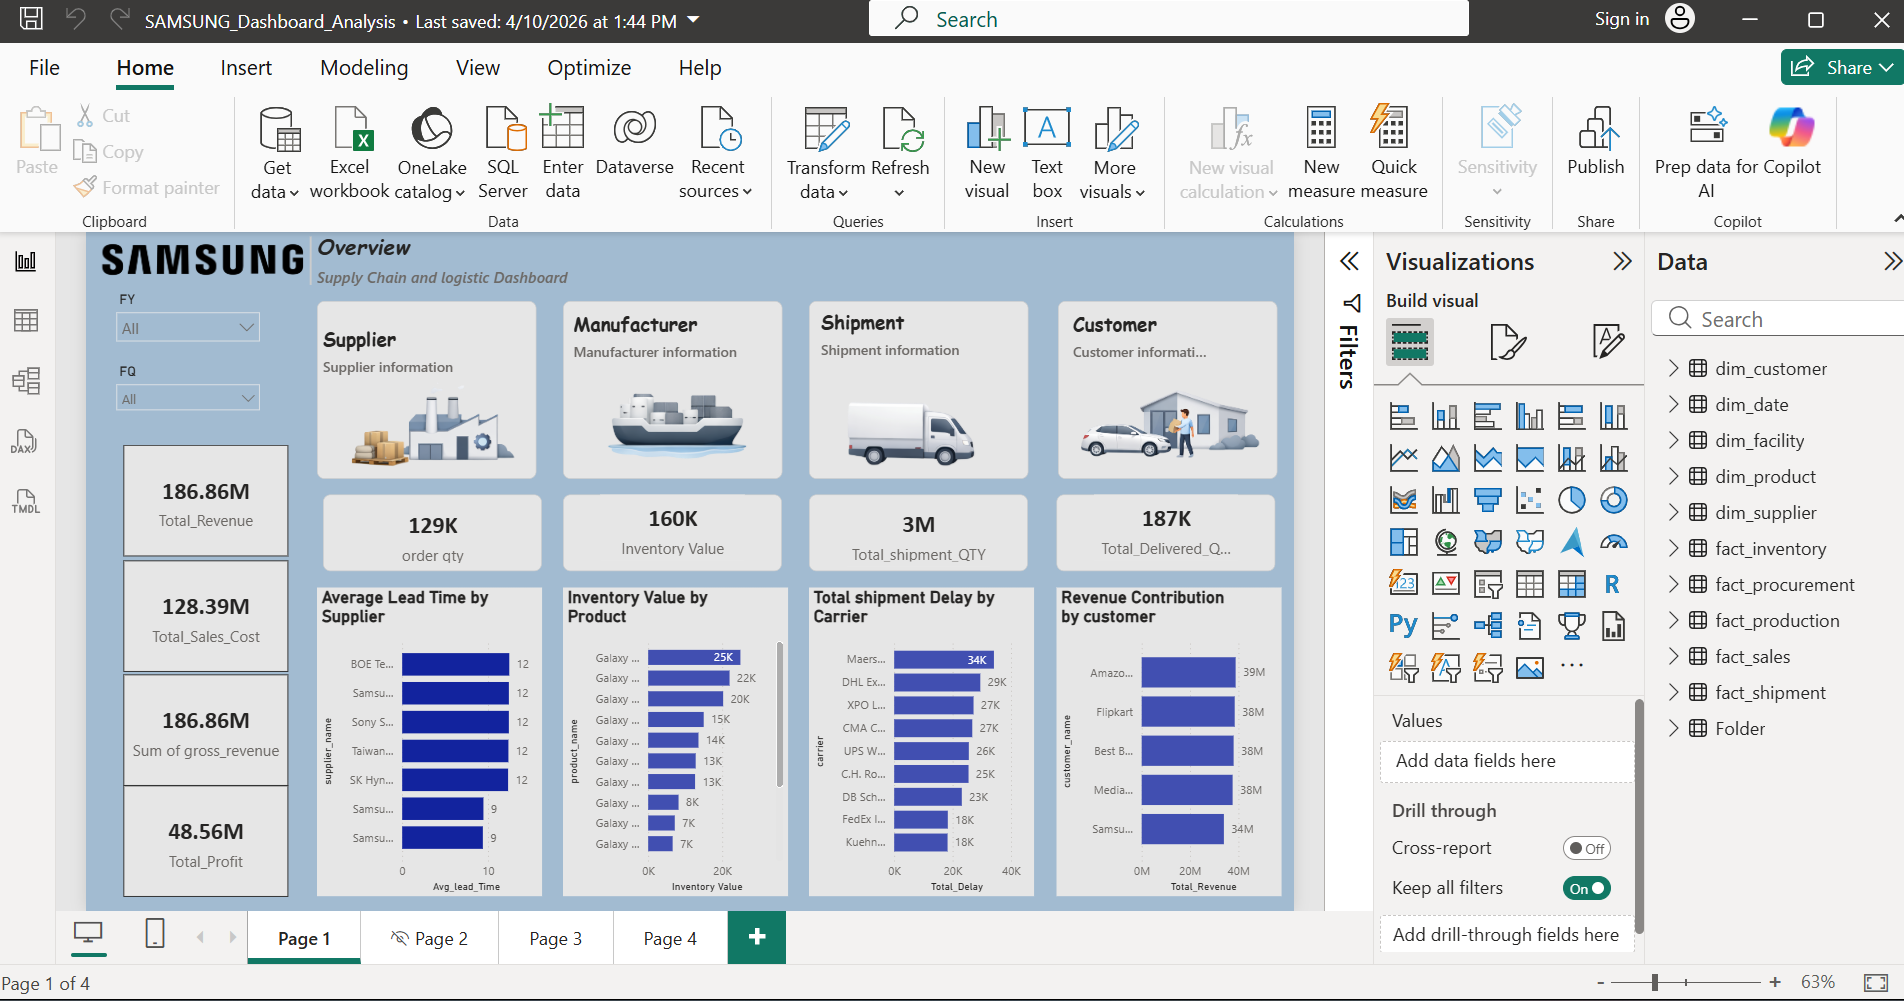

What the dashboard file says about the page in this screenshot:
{"tool":"powerbi","page":{"name":"Page 1","canvas":[1280,720],"ordinal":0},"visuals":[{"type":"shape","box":[245.7,73.7,232.4,189],"z":0},{"type":"shape","box":[1029.9,73.7,232.4,189],"z":1000},{"type":"shape","box":[767.2,73.7,232.4,189],"z":2000},{"type":"shape","box":[506.5,73.7,232.4,189],"z":3000},{"type":"image","box":[537.5,138.1,171.2,117.8],"z":4000},{"type":"image","box":[795.3,138.1,154.6,139.9],"z":5000},{"type":"image","box":[263.2,138.1,198.8,125.2],"z":6000},{"type":"image","box":[1046.9,138,215.4,124.7],"z":7000},{"type":"shape","title":"Supplier ","box":[251.3,98.6,265.6,81.1],"z":8000},{"type":"shape","title":"Manufacturer","box":[516.9,82.7,267.2,82.7],"z":9000},{"type":"shape","title":"Shipment","box":[779.4,81.1,267.2,81.1],"z":10000},{"type":"shape","title":"Customer","box":[1046.6,82.7,141.6,68.4],"z":11000},{"type":"shape","title":"Overview","box":[244.8,0,279.8,73.6],"z":12000},{"type":"shape","box":[193.3,5.5,88.4,51.5],"z":13000},{"type":"image","box":[0,0,237,57.3],"z":14000},{"type":"card","fields":{"Values":["Folder.Total_Revenue"]},"box":[39.8,225.9,175,117.7],"z":15000},{"type":"card","fields":{"Values":["Folder.Total_Profit"]},"box":[39.8,586.9,175,117.7],"z":16000},{"type":"card","fields":{"Values":["Sum(fact_sales.gross_revenue)"]},"box":[39.8,469.2,175,117.7],"z":17000},{"type":"card","fields":{"Values":["Folder.Total_Sales_Cost"]},"box":[39.8,348.3,175,117.7],"z":18000},{"type":"shape","box":[251.3,278.4,232.2,81.1],"z":19000},{"type":"shape","box":[505.8,278.4,232.2,81.1],"z":20000},{"type":"shape","box":[766.7,278.4,232.2,81.1],"z":21000},{"type":"shape","box":[1029.1,278.4,232.2,81.1],"z":22000},{"type":"card","fields":{"Values":["Folder.order qty"]},"box":[291.1,286.3,152.7,70],"z":23000},{"type":"card","fields":{"Values":["Folder.Inventory Value"]},"box":[545.6,278.4,152.7,70],"z":24000},{"type":"card","fields":{"Values":["Folder.Total_shipment_QTY"]},"box":[806.4,284.7,152.7,70],"z":25000},{"type":"card","fields":{"Values":["Folder.Total_Delivered_Quantity"]},"box":[1068.9,278.4,152.7,70],"z":26000},{"type":"clusteredBarChart","title":"Average Lead Time by Supplier","fields":{"Category":["dim_supplier.supplier_name"],"Y":["Folder.Avg_lead_Time"]},"box":[245,377,238.6,327.7],"z":27000},{"type":"clusteredBarChart","title":"Inventory Value by Product","fields":{"Y":["Folder.Inventory Value"],"Category":["dim_product.product_name"]},"box":[505.8,377,238.6,327.7],"z":28000},{"type":"clusteredBarChart","title":"Total shipment Delay by Carrier","fields":{"Y":["Folder.Total_Delay"],"Category":["fact_shipment.carrier"]},"box":[766.7,377,238.6,327.7],"z":29000},{"type":"clusteredBarChart","title":"Revenue  Contribution by customer","fields":{"Y":["Folder.Total_Revenue"],"Category":["dim_customer.customer_name"]},"box":[1029.1,377,238.6,327.7],"z":30000},{"type":"slicer","fields":{"Values":["dim_date.FY"]},"box":[22.3,57.3,171.8,70],"z":31000},{"type":"slicer","fields":{"Values":["dim_date.FQ"]},"box":[22.3,133.6,171.8,70],"z":32000}]}

Visuals, with their boxes on the page's 1280x720 design canvas (x1, y1, x2, y2). These are canvas units, not pixel positions in the 1904x1001 screenshot, which may show the page scaled, cropped or inside an application window:
shape: left=246, top=74, right=478, bottom=263
shape: left=1030, top=74, right=1262, bottom=263
shape: left=767, top=74, right=1000, bottom=263
shape: left=506, top=74, right=739, bottom=263
image: left=538, top=138, right=709, bottom=256
image: left=795, top=138, right=950, bottom=278
image: left=263, top=138, right=462, bottom=263
image: left=1047, top=138, right=1262, bottom=263
"Supplier " shape: left=251, top=99, right=517, bottom=180
"Manufacturer" shape: left=517, top=83, right=784, bottom=165
"Shipment" shape: left=779, top=81, right=1047, bottom=162
"Customer" shape: left=1047, top=83, right=1188, bottom=151
"Overview" shape: left=245, top=0, right=525, bottom=74
shape: left=193, top=6, right=282, bottom=57
image: left=0, top=0, right=237, bottom=57
card - Folder.Total_Revenue: left=40, top=226, right=215, bottom=344
card - Folder.Total_Profit: left=40, top=587, right=215, bottom=705
card - Sum(fact_sales.gross_revenue): left=40, top=469, right=215, bottom=587
card - Folder.Total_Sales_Cost: left=40, top=348, right=215, bottom=466
shape: left=251, top=278, right=484, bottom=360
shape: left=506, top=278, right=738, bottom=360
shape: left=767, top=278, right=999, bottom=360
shape: left=1029, top=278, right=1261, bottom=360
card - Folder.order qty: left=291, top=286, right=444, bottom=356
card - Folder.Inventory Value: left=546, top=278, right=698, bottom=348
card - Folder.Total_shipment_QTY: left=806, top=285, right=959, bottom=355
card - Folder.Total_Delivered_Quantity: left=1069, top=278, right=1222, bottom=348
"Average Lead Time by Supplier" clusteredBarChart: left=245, top=377, right=484, bottom=705
"Inventory Value by Product" clusteredBarChart: left=506, top=377, right=744, bottom=705
"Total shipment Delay by Carrier" clusteredBarChart: left=767, top=377, right=1005, bottom=705
"Revenue  Contribution by customer" clusteredBarChart: left=1029, top=377, right=1268, bottom=705
slicer - dim_date.FY: left=22, top=57, right=194, bottom=127
slicer - dim_date.FQ: left=22, top=134, right=194, bottom=204
